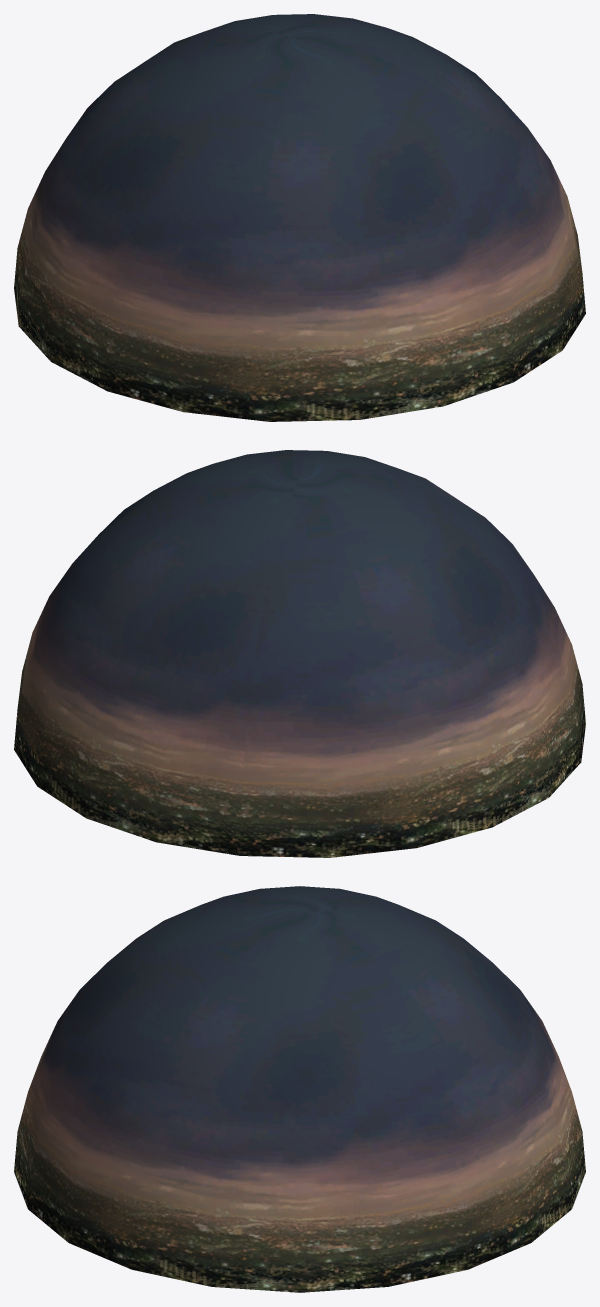
File: paris1c.fbx
The picture shows the model from 3 angles, top to bottom: view 1: azimuth 30°, elevation 25°; view 2: azimuth 150°, elevation 25°; view 3: azimuth 270°, elevation 25°; orthographic projection.
Visible parts, largest first — view 1: ROOM_0, ROOM_5, ROOM_2, ROOM_1, ROOM_3, ROOM_7, ROOM_4; view 2: ROOM_0, ROOM_7, ROOM_2, ROOM_5, ROOM_6, ROOM_3, ROOM_4, ROOM_1; view 3: ROOM_2, ROOM_3, ROOM_0, ROOM_7, ROOM_4, ROOM_5, ROOM_1, ROOM_6.
Part boxes in pixels (box(x1,y1,x2,y2)): ROOM_0: box(24, 14, 580, 421); ROOM_5: box(16, 16, 585, 420); ROOM_2: box(47, 17, 578, 418); ROOM_1: box(35, 159, 561, 420); ROOM_3: box(64, 14, 584, 420); ROOM_7: box(14, 14, 582, 404); ROOM_4: box(31, 140, 571, 341); ROOM_0: box(36, 450, 581, 857); ROOM_7: box(14, 475, 584, 857); ROOM_2: box(26, 453, 581, 857); ROOM_5: box(37, 450, 585, 838); ROOM_6: box(39, 624, 477, 857); ROOM_3: box(19, 450, 530, 824); ROOM_4: box(16, 650, 483, 840); ROOM_1: box(241, 539, 584, 806); ROOM_2: box(14, 892, 578, 1292); ROOM_3: box(17, 915, 574, 1292); ROOM_0: box(28, 887, 571, 1284); ROOM_7: box(128, 911, 585, 1287); ROOM_4: box(37, 962, 585, 1285); ROOM_5: box(26, 886, 559, 1269); ROOM_1: box(38, 1040, 295, 1286); ROOM_6: box(499, 981, 584, 1206).
Bounding box in the file's own units: 492484 × 492484 × 246242.
143 materials, 142 textured.
